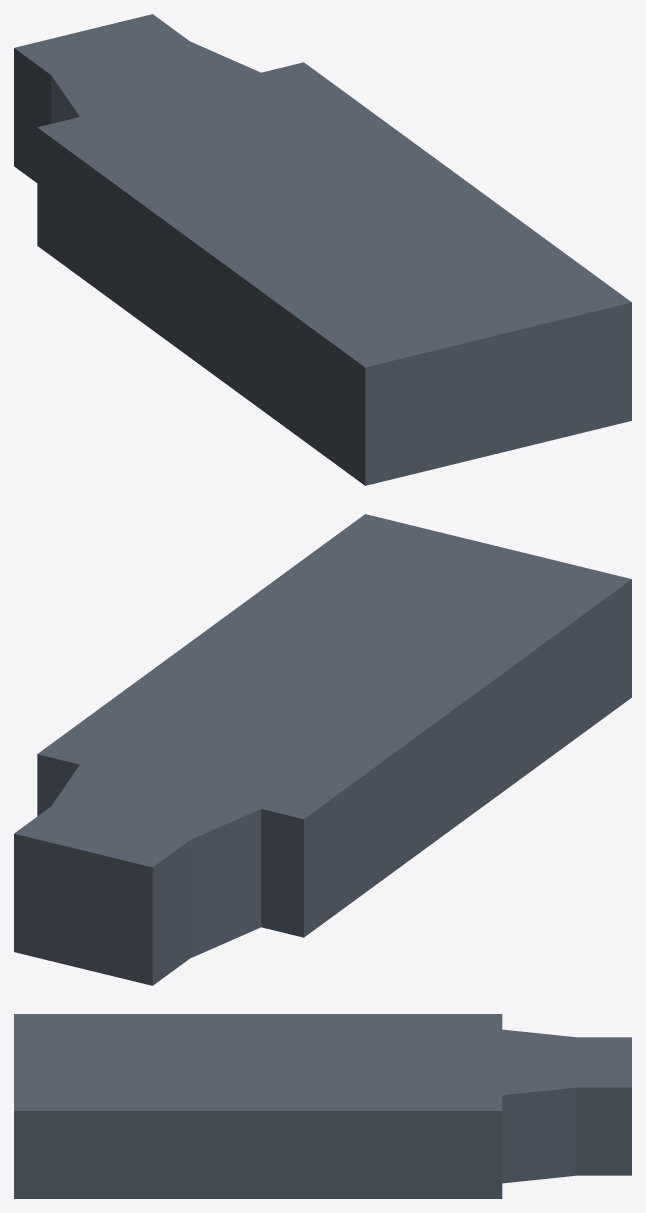
The model's file is magazine-66x178x28-plastic-abs.glb.
3 views of the same model, one above another, from view 1: azimuth 30°, elevation 25°; view 2: azimuth 150°, elevation 25°; view 3: azimuth 270°, elevation 25° (orthographic). The views are drawn at different scales.
Visible parts, largest first — view 1: flat_item_body; view 2: flat_item_body; view 3: flat_item_body.
Part boxes in pixels (x1,y1,x2,y2): flat_item_body: (14, 14, 631, 485); flat_item_body: (14, 514, 631, 985); flat_item_body: (14, 1014, 631, 1198).
Bounding box in the file's own units: 66 × 28 × 178.
